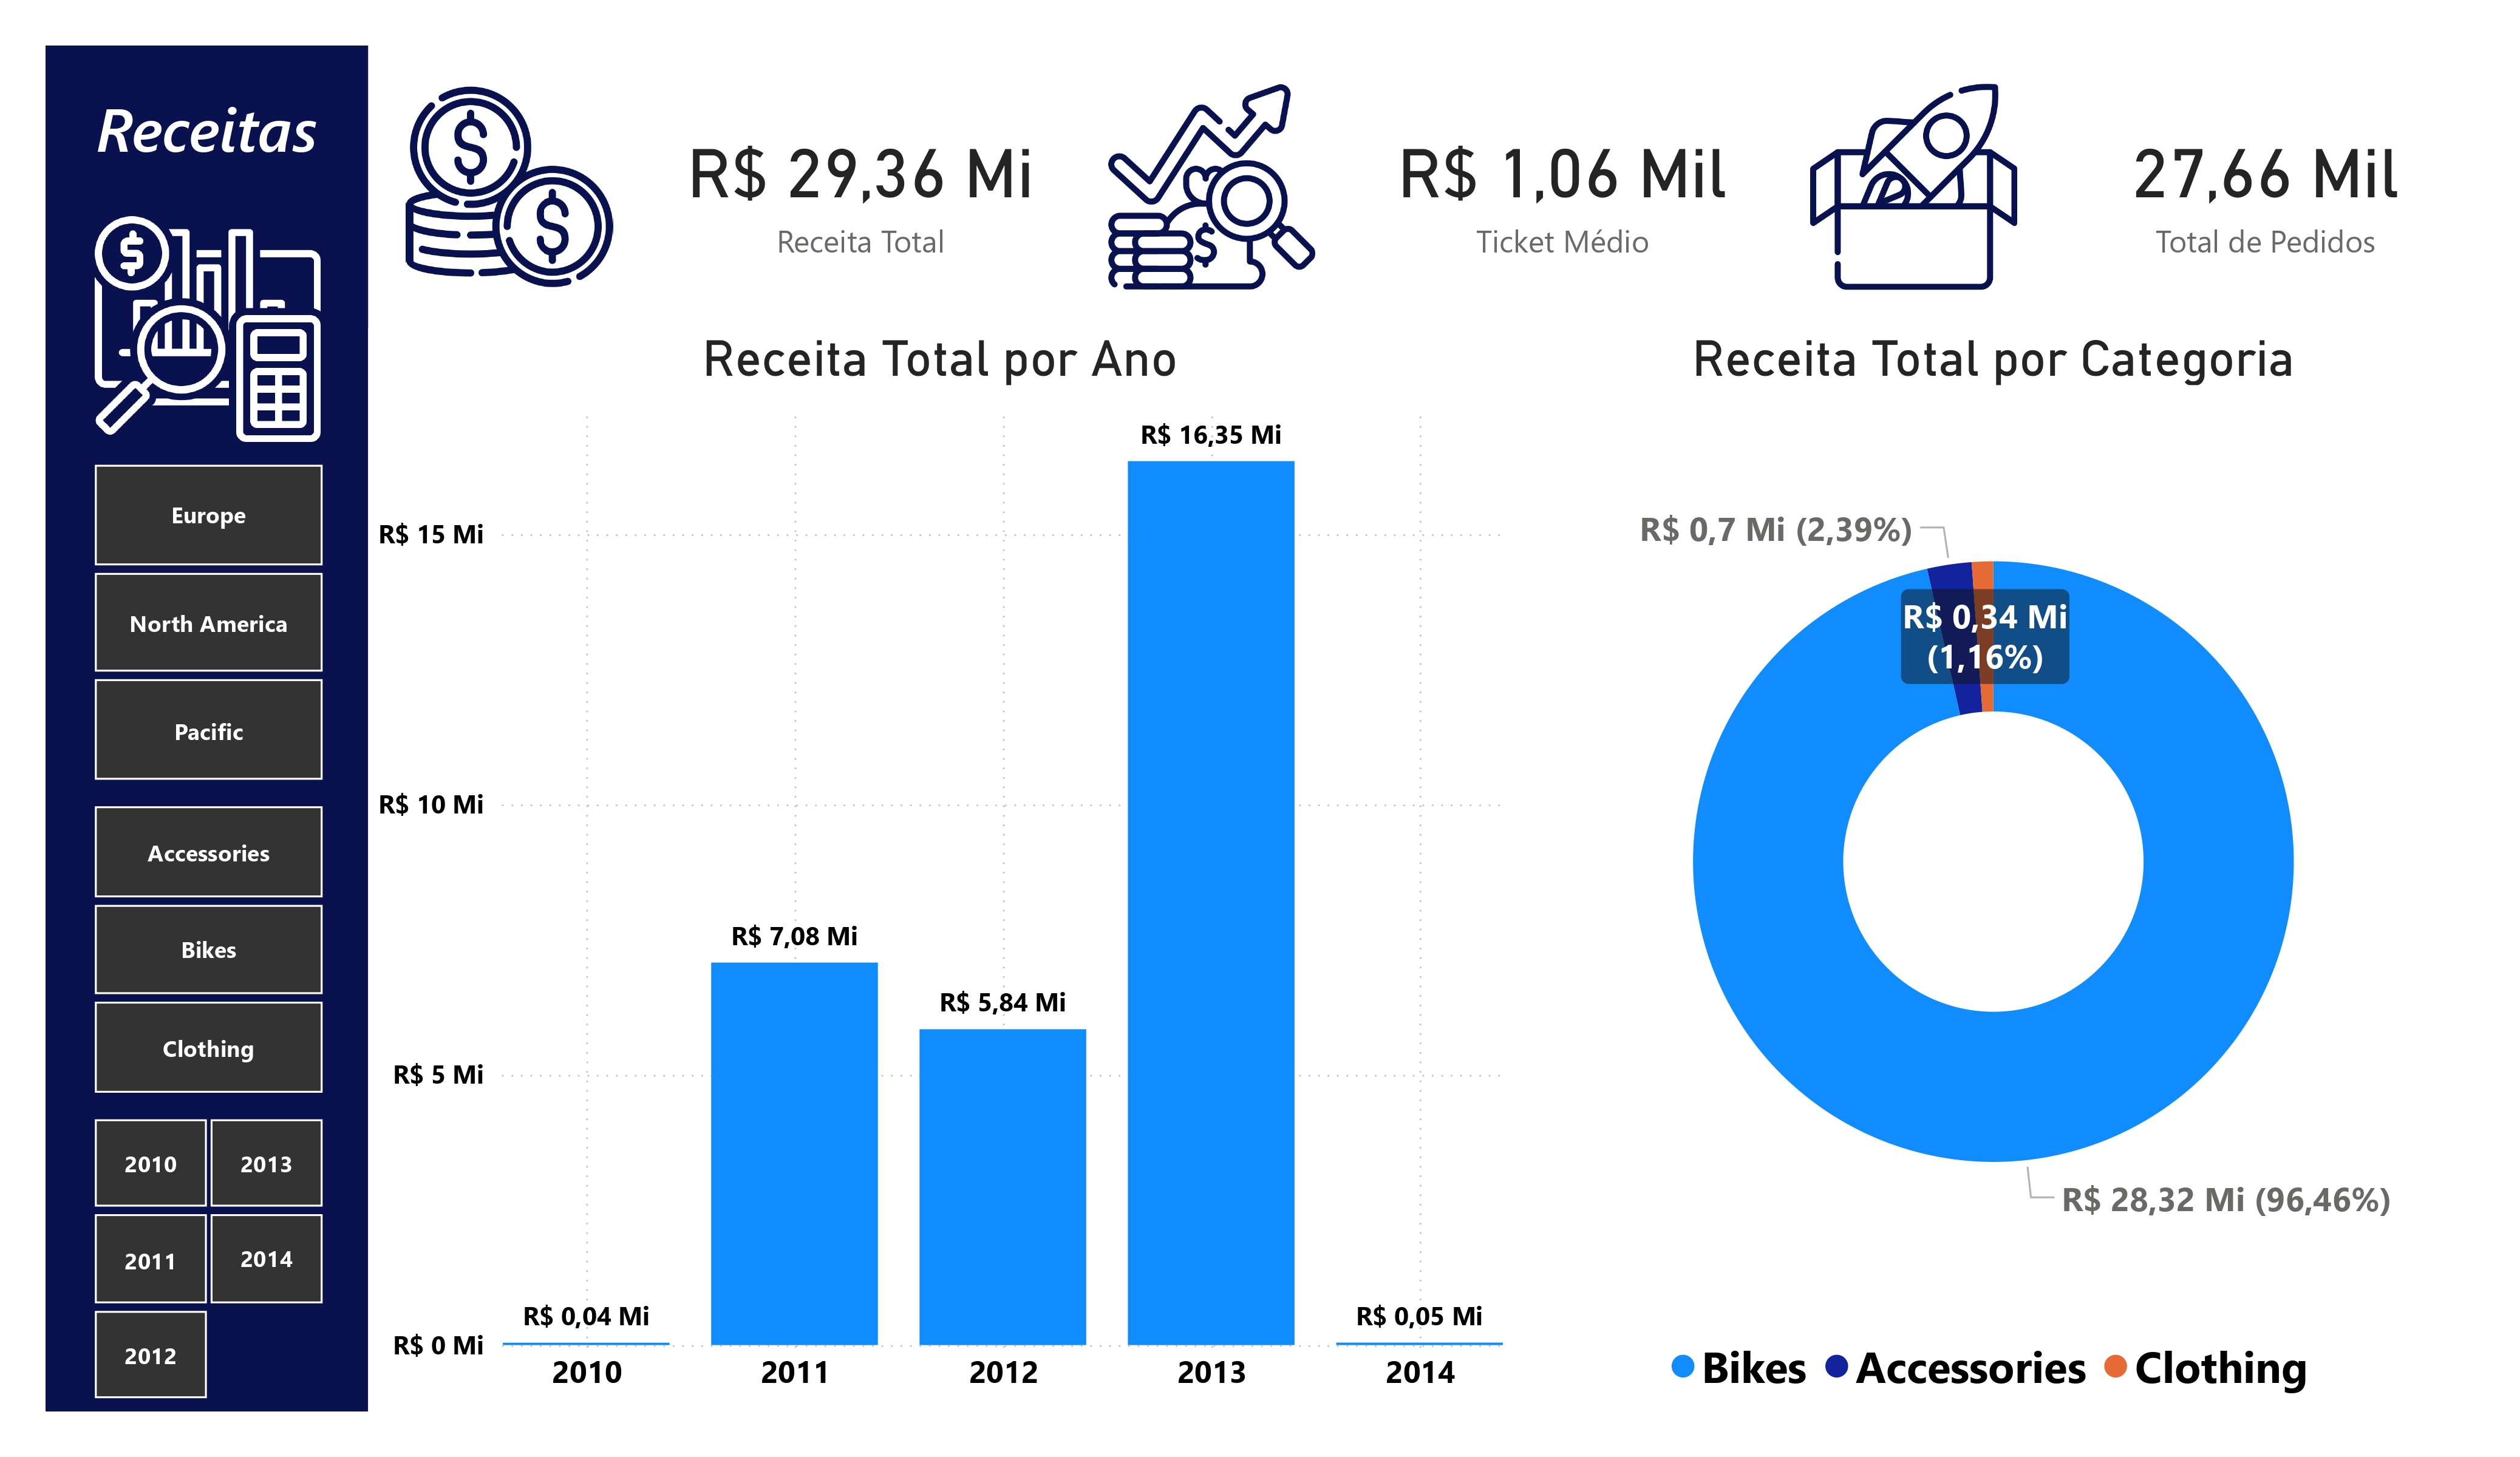

What the dashboard file says about the page in this screenshot:
{"tool":"powerbi","page":{"name":"Visão Executiva","canvas":[1280,720],"ordinal":0},"visuals":[{"type":"shape","box":[0,0,169.8,720],"z":0},{"type":"card","fields":{"Values":["BaseAW.Receita Total"]},"box":[319,0,221,149.3],"z":1000},{"type":"columnChart","fields":{"Category":["Calendario.Ano"],"Y":["BaseAW.Receita Total"]},"box":[169.8,149.3,602.9,570.7],"z":2000},{"type":"card","fields":{"Values":["BaseAW.Total de Pedidos"]},"box":[1059.5,0,221,149.3],"z":3000},{"type":"card","fields":{"Values":["BaseAW.Ticket Médio"]},"box":[689.3,0,221,149.3],"z":4000},{"type":"donutChart","fields":{"Category":["BaseAW.EnglishProductCategoryName"],"Y":["BaseAW.Receita Total"]},"box":[772.7,149.3,507.8,570.7],"z":5000},{"type":"textbox","box":[0,16.1,169.8,68.8],"z":6000},{"type":"image","box":[0,84.9,169.8,128.8],"z":7000},{"type":"image","box":[169.8,0,149.3,149.3],"z":8000},{"type":"image","box":[540,0,149,149],"z":9000},{"type":"image","box":[910.2,0,149,149],"z":10000},{"type":"slicer","fields":{"Values":["BaseAW.EnglishProductCategoryName"]},"box":[0,393.7,169.8,165.4],"z":11000},{"type":"slicer","fields":{"Values":["Calendario.Ano"]},"box":[0,559,169.8,161],"z":12000},{"type":"slicer","fields":{"Values":["BaseAW.SalesTerritoryGroup"]},"box":[0,213.7,169.8,180],"z":13000}]}

Visuals, with their boxes on the page's 1280x720 design canvas (x1, y1, x2, y2). These are canvas units, not pixel positions in the 2520x1457 screenshot, which may show the page scaled, cropped or inside an application window:
shape: crop(0, 0, 170, 720)
card - BaseAW.Receita Total: crop(319, 0, 540, 149)
columnChart - Calendario.Ano x BaseAW.Receita Total: crop(170, 149, 773, 720)
card - BaseAW.Total de Pedidos: crop(1060, 0, 1280, 149)
card - BaseAW.Ticket Médio: crop(689, 0, 910, 149)
donutChart - BaseAW.EnglishProductCategoryName x BaseAW.Receita Total: crop(773, 149, 1280, 720)
textbox: crop(0, 16, 170, 85)
image: crop(0, 85, 170, 214)
image: crop(170, 0, 319, 149)
image: crop(540, 0, 689, 149)
image: crop(910, 0, 1059, 149)
slicer - BaseAW.EnglishProductCategoryName: crop(0, 394, 170, 559)
slicer - Calendario.Ano: crop(0, 559, 170, 720)
slicer - BaseAW.SalesTerritoryGroup: crop(0, 214, 170, 394)
